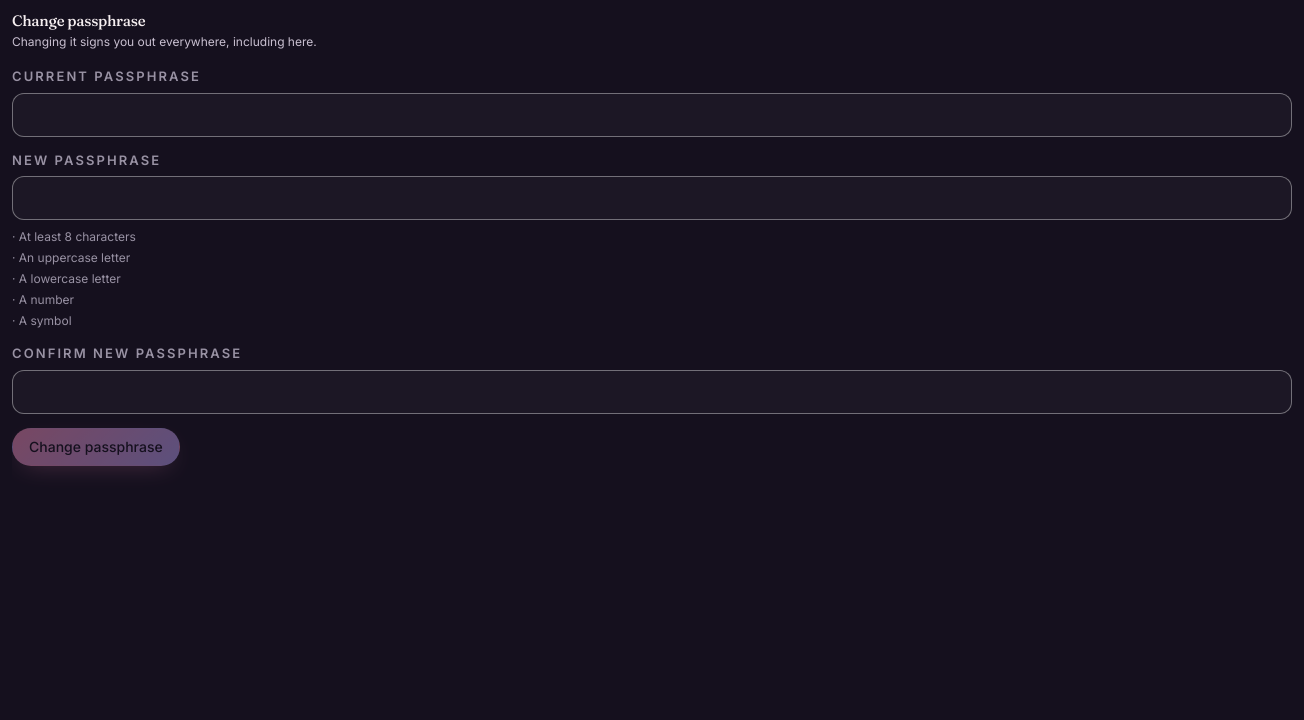
Test: validation is the SERVER’s job › blocks submit when the two new fields differ, and says so
This screenshot has width=1304, height=720.
Step 1. Type "old-one" into the password field labelled "Current passphrase" → (652, 115), box [12,93,1292,137]
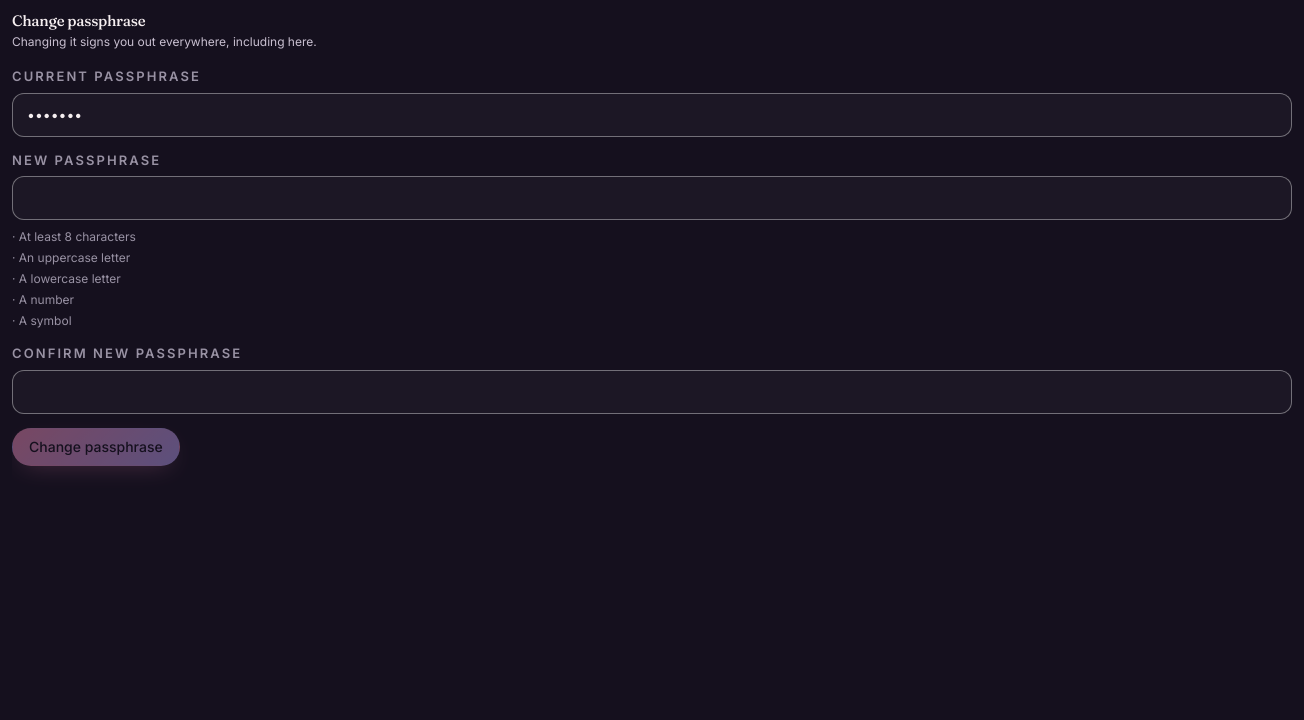
Step 2. Type "Brand-New-1!" into the password field labelled "New passphrase" → (652, 198), box [12,176,1292,220]
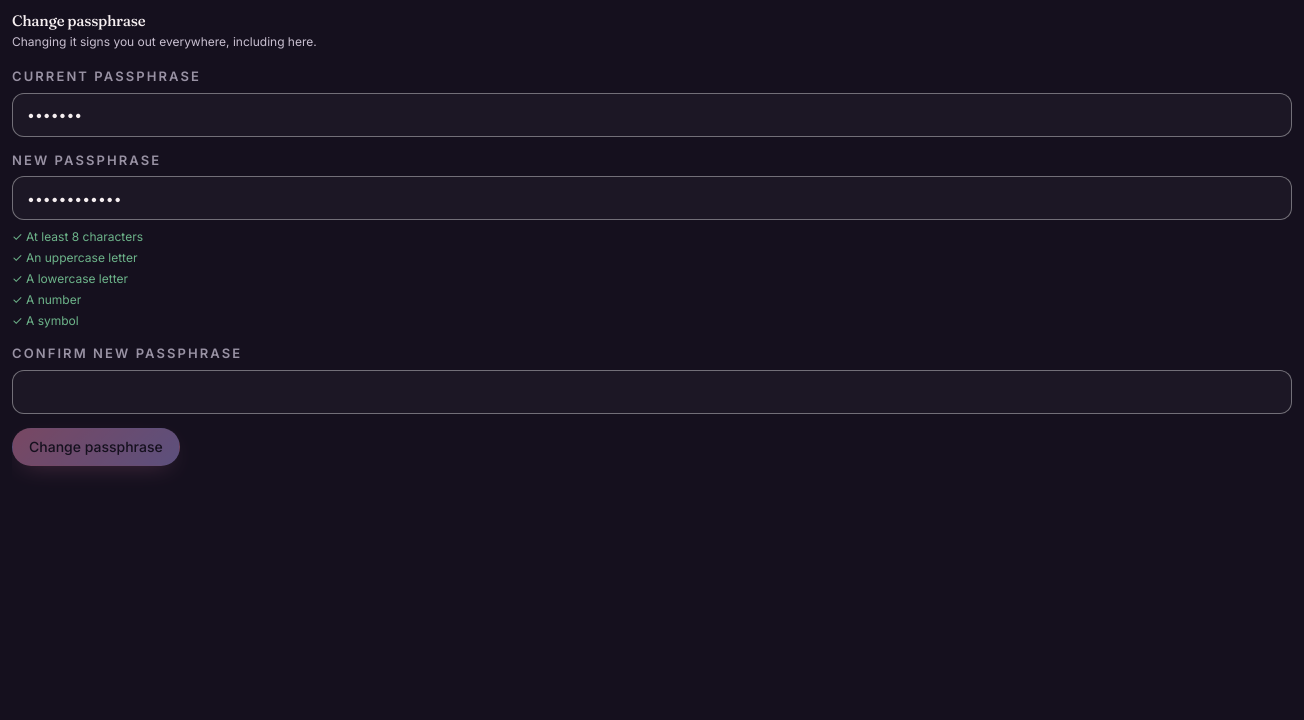
Step 3. Type "Brand-New-2!" into the password field labelled "Confirm new passphrase" → (652, 392), box [12,370,1292,414]
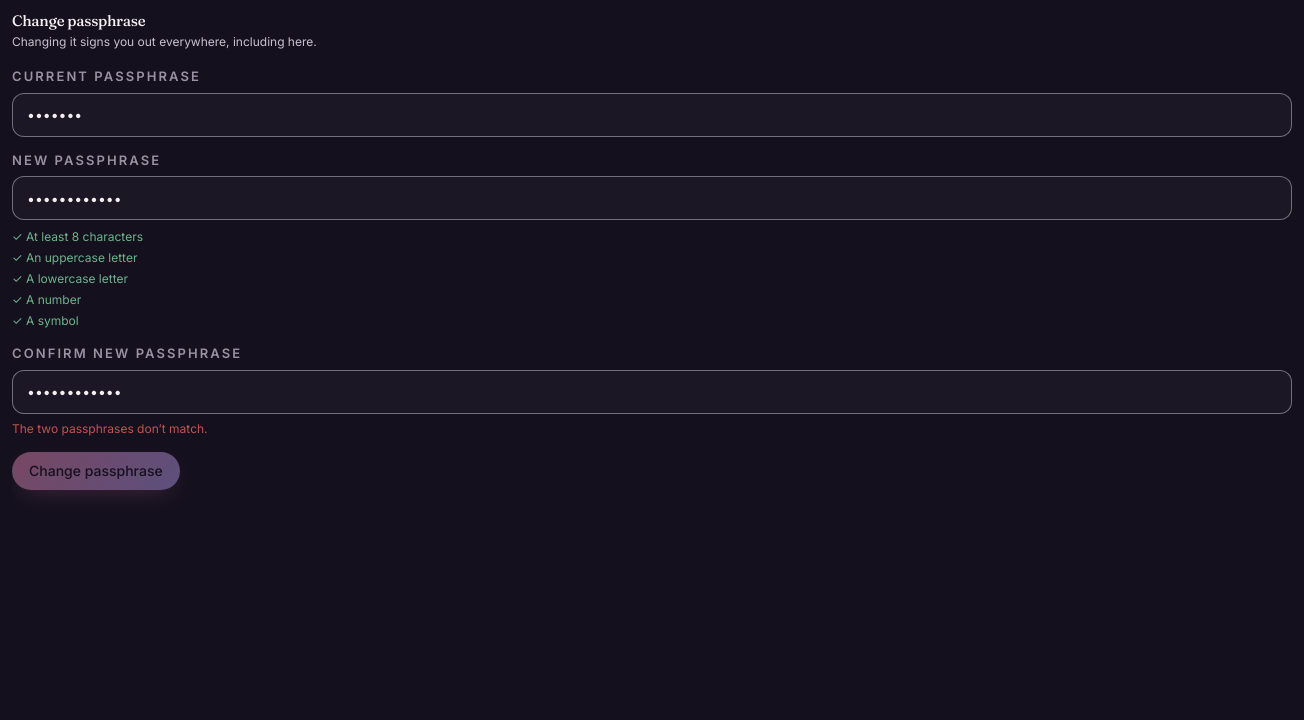
Expected: the button "Change passphrase" is disabled, [12,452,180,490]
Expected: the text "The two passphrases don’t match." is shown, [12,421,208,436]
